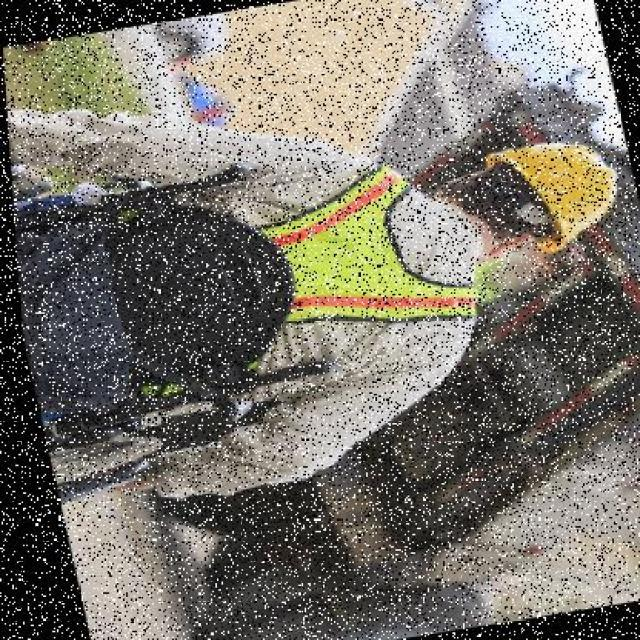helmet: (491, 126, 623, 268)
